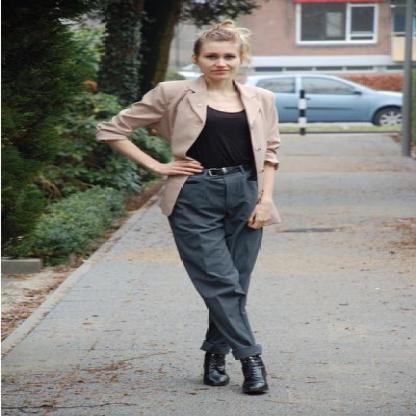jacket: (97, 75, 286, 199)
pants: (168, 174, 274, 358)
shirt: (187, 105, 256, 174)
shoe: (203, 352, 267, 394)
